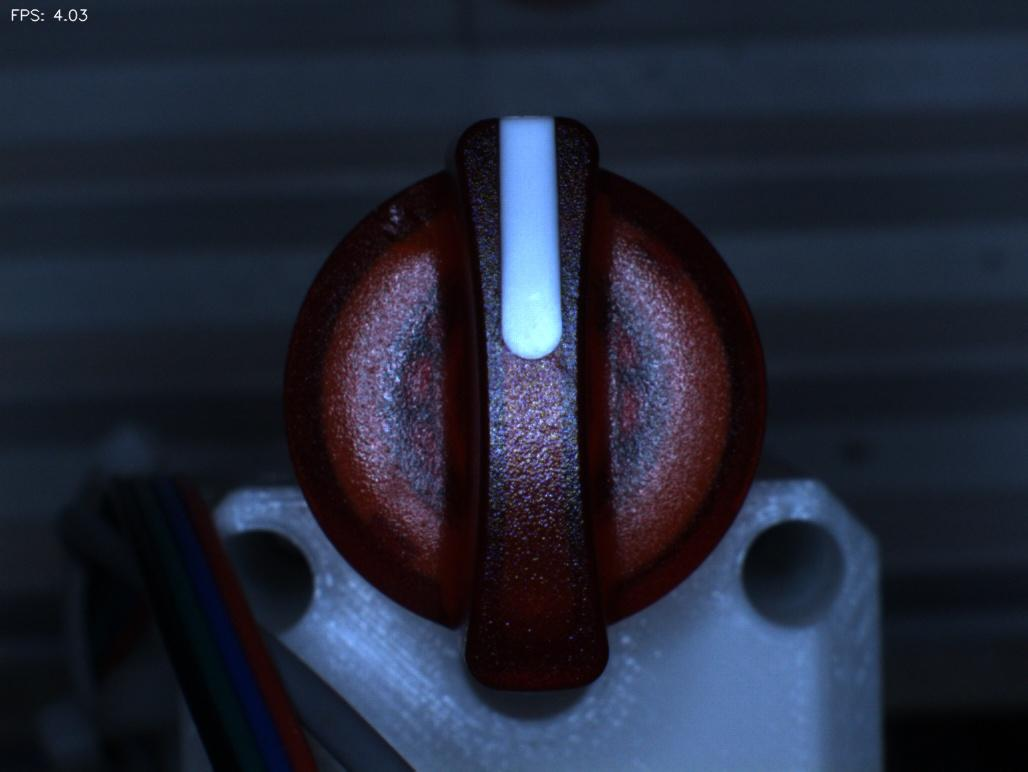Choc: (360, 186, 435, 256)
